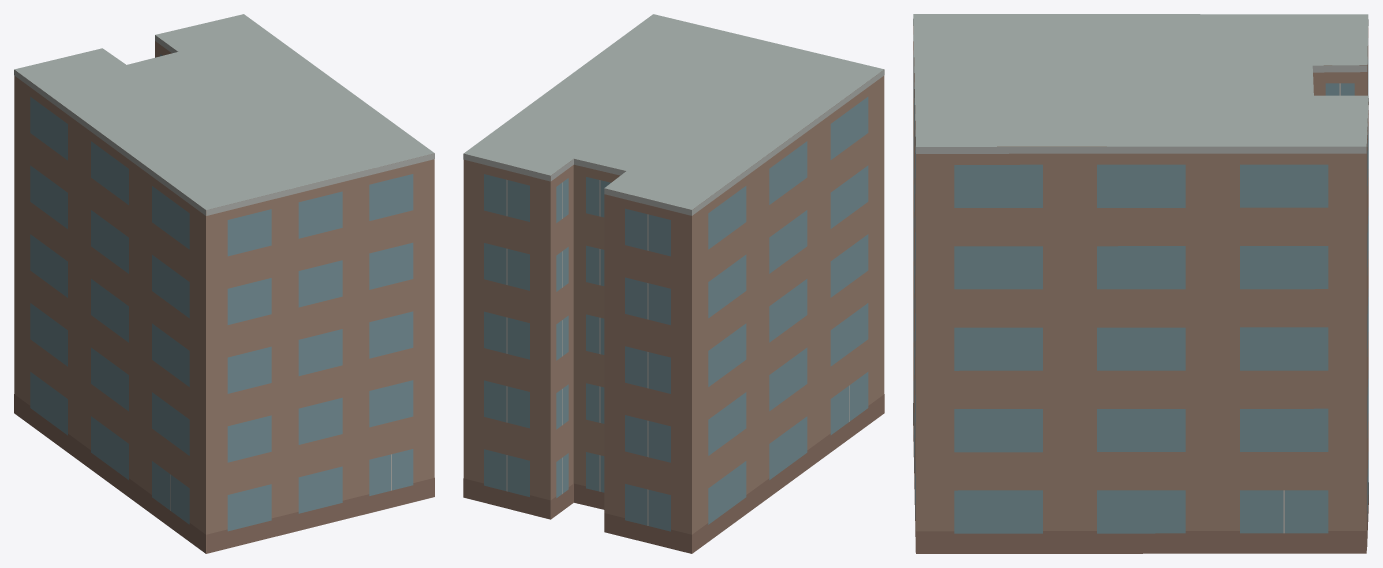
Rendered from survey-upis-32735231.glb.
3 views of the same model, side by side, from view 1: azimuth 30°, elevation 25°; view 2: azimuth 150°, elevation 25°; view 3: azimuth 270°, elevation 25° (orthographic). The views are drawn at different scales.
Parts seen in each view (by area): view 1: survey-upis-32735231.tmp; view 2: survey-upis-32735231.tmp; view 3: survey-upis-32735231.tmp.
Part boxes in pixels (x1,y1,x2,y2): survey-upis-32735231.tmp: (14, 14, 434, 553); survey-upis-32735231.tmp: (463, 14, 884, 553); survey-upis-32735231.tmp: (913, 14, 1368, 553).
Bounding box in the file's own units: 9.88 × 14.1 × 14.31.
